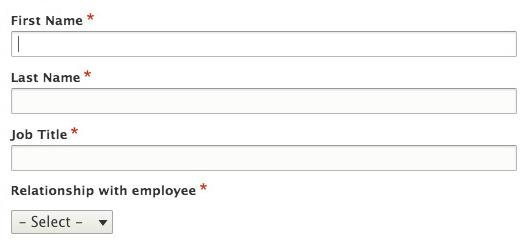field: (9, 84, 520, 116), (8, 143, 520, 174), (8, 29, 516, 60), (7, 209, 116, 235)
field_with_label: (6, 126, 522, 176), (5, 12, 519, 62), (8, 70, 523, 119)
